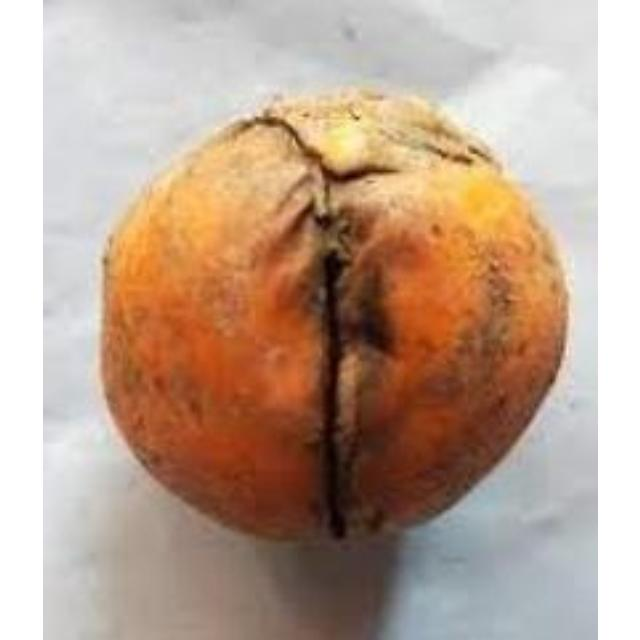damaged: (100, 88, 562, 536)
